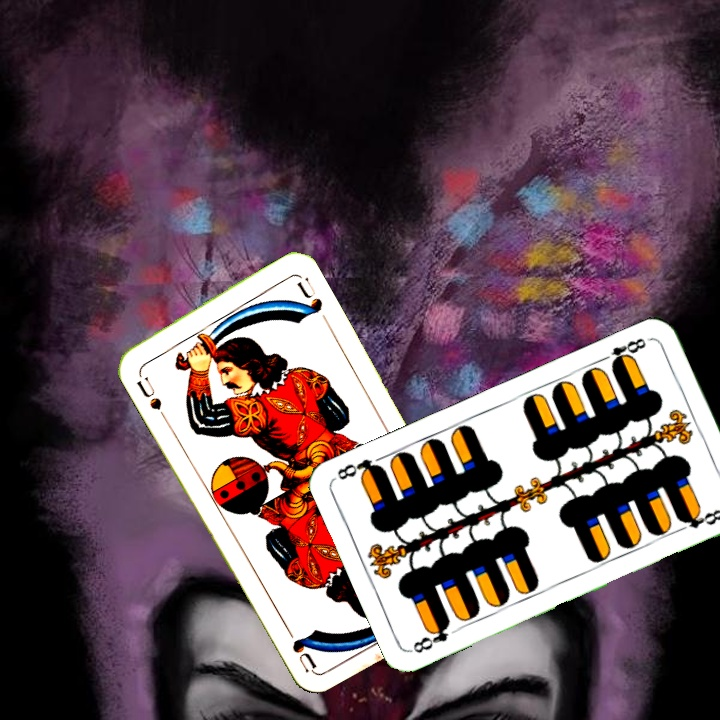E8: (596, 334, 649, 371), (408, 617, 453, 656)
SU: (132, 372, 165, 413)
